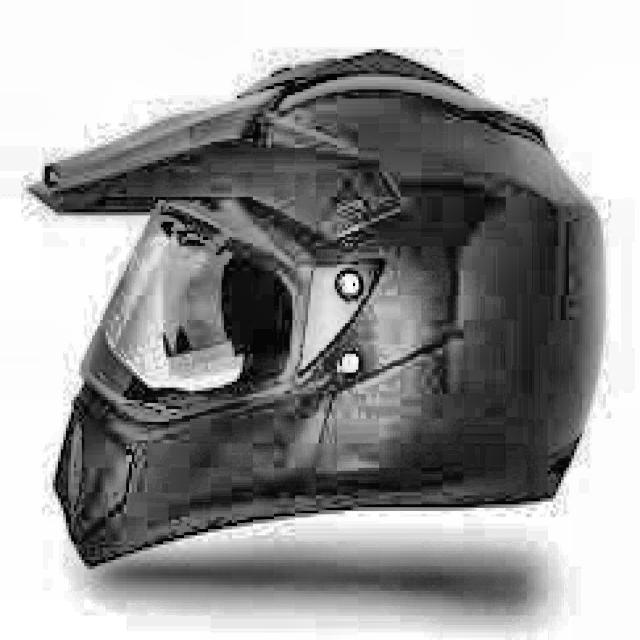Helmet: (34, 29, 615, 558)
